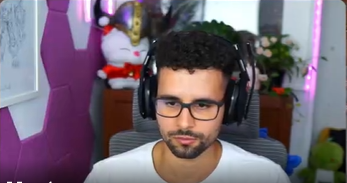person: (80, 24, 293, 182)
